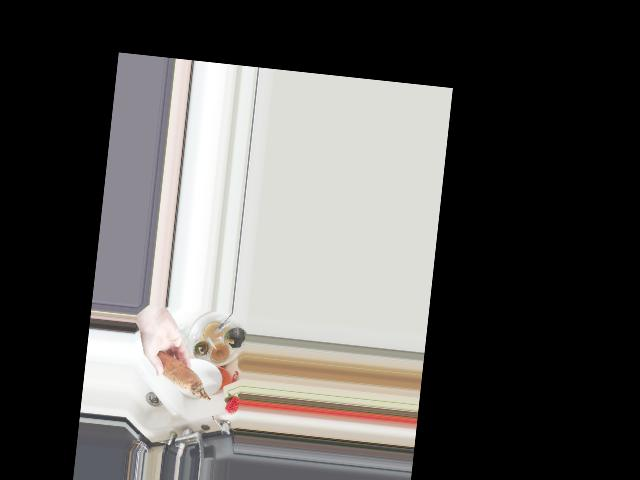sweet_potato: (148, 346, 217, 401)
